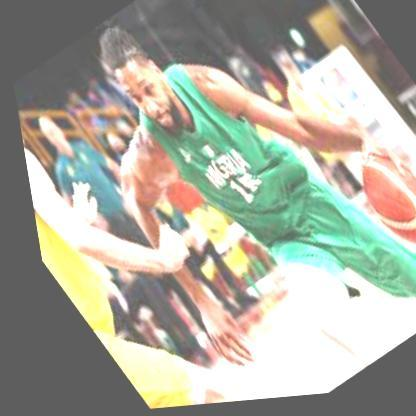basketball: (335, 146, 416, 269)
